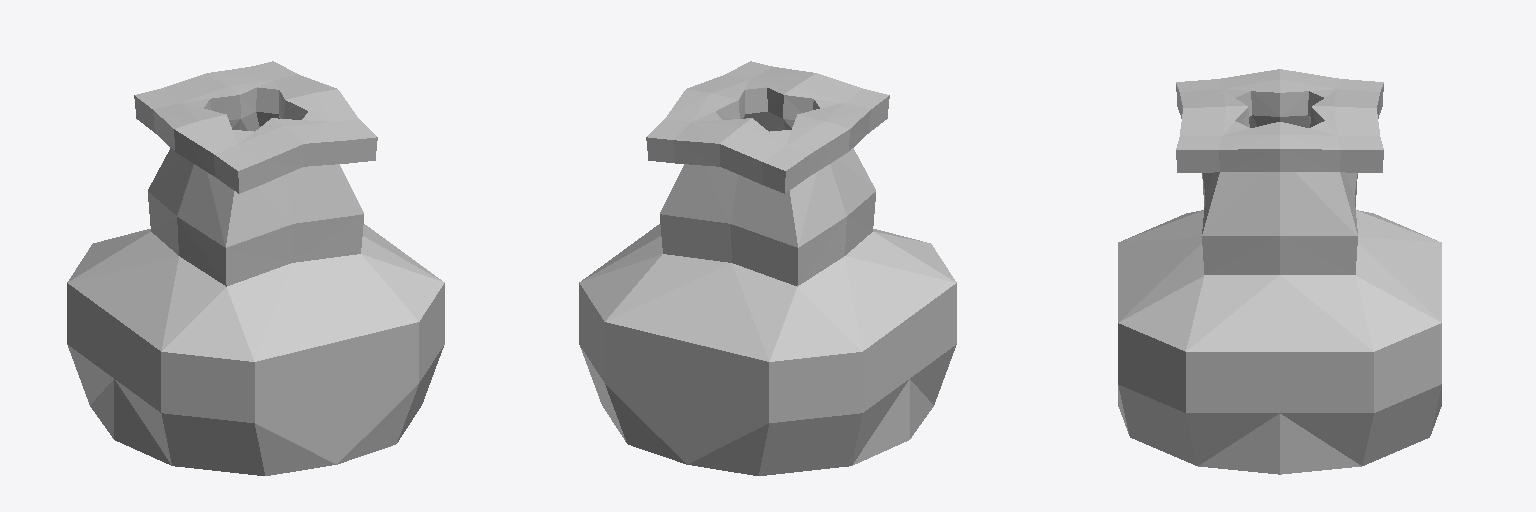
Rendered from flash.obj.
3 views of the same model, side by side, from view 1: azimuth 30°, elevation 25°; view 2: azimuth 150°, elevation 25°; view 3: azimuth 270°, elevation 25° (orthographic).
Visible parts, largest first — view 1: Cube; view 2: Cube; view 3: Cube.
Boxes of the visible parts, box(x1,y1,x2,y2) form: Cube: box(67, 61, 444, 475); Cube: box(579, 61, 956, 475); Cube: box(1118, 69, 1441, 474).
Bounding box in the file's own units: 4.83 × 4.87 × 4.78.